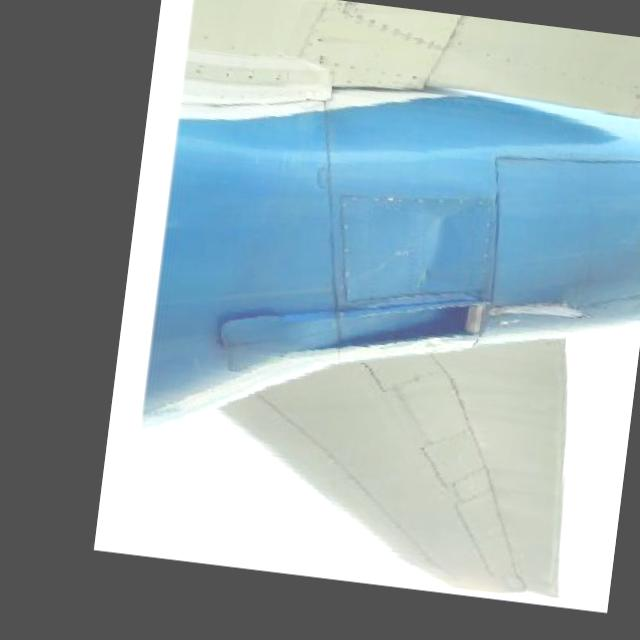dent: (397, 206, 474, 294)
